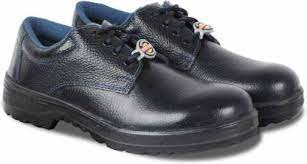Shoes: (7, 6, 283, 154)
